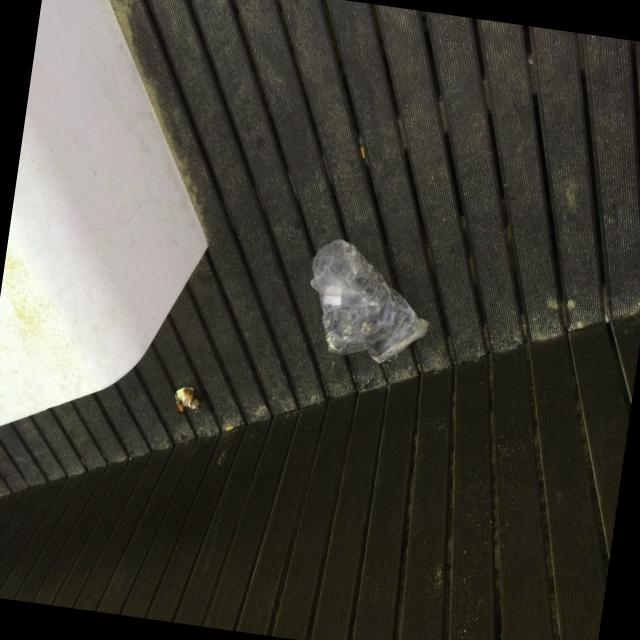less trash: (311, 240, 428, 362)
